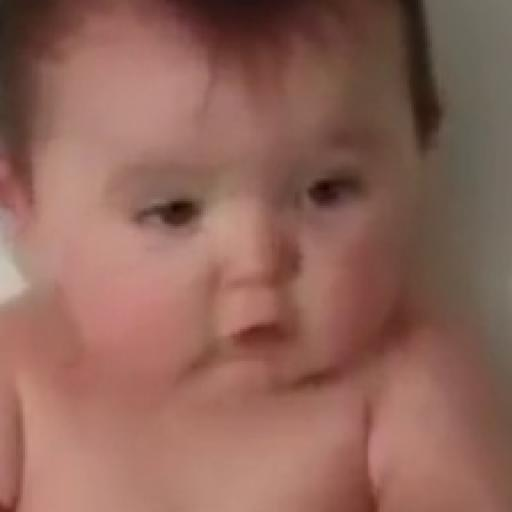Autism: (16, 12, 486, 426)
